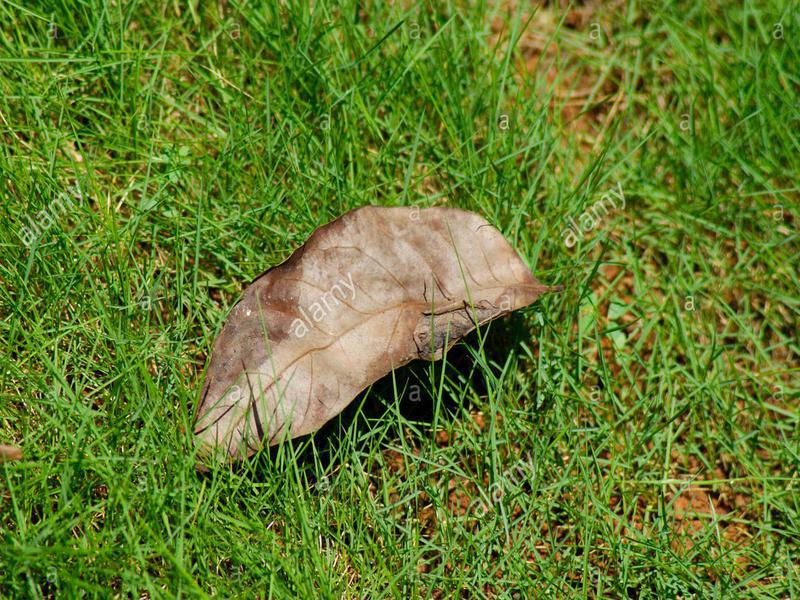leaf: (187, 194, 557, 476)
